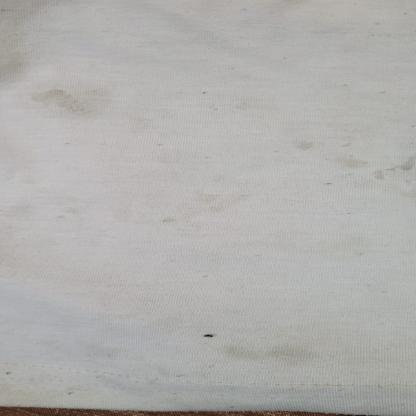spot: (222, 339, 365, 370), (287, 133, 375, 175), (27, 87, 116, 121), (350, 149, 411, 180), (146, 210, 196, 226), (200, 330, 224, 342)
